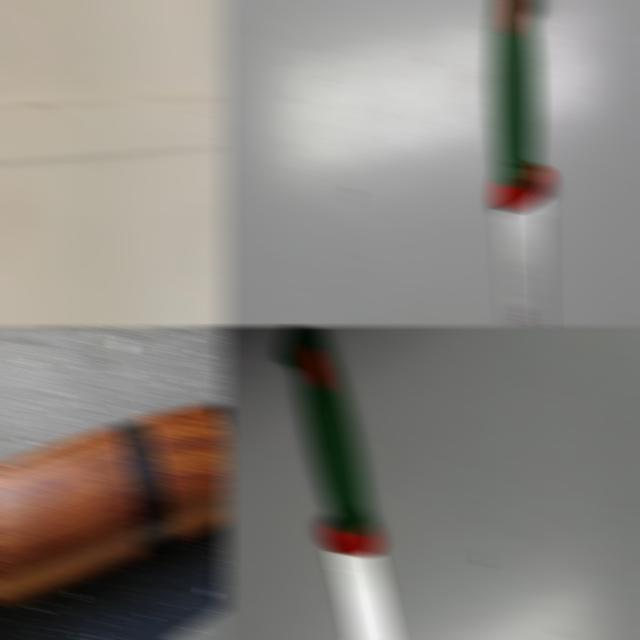Knife: (277, 326, 397, 640), (490, 0, 551, 326)
